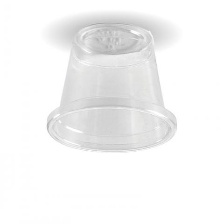glass: (39, 16, 195, 155)
